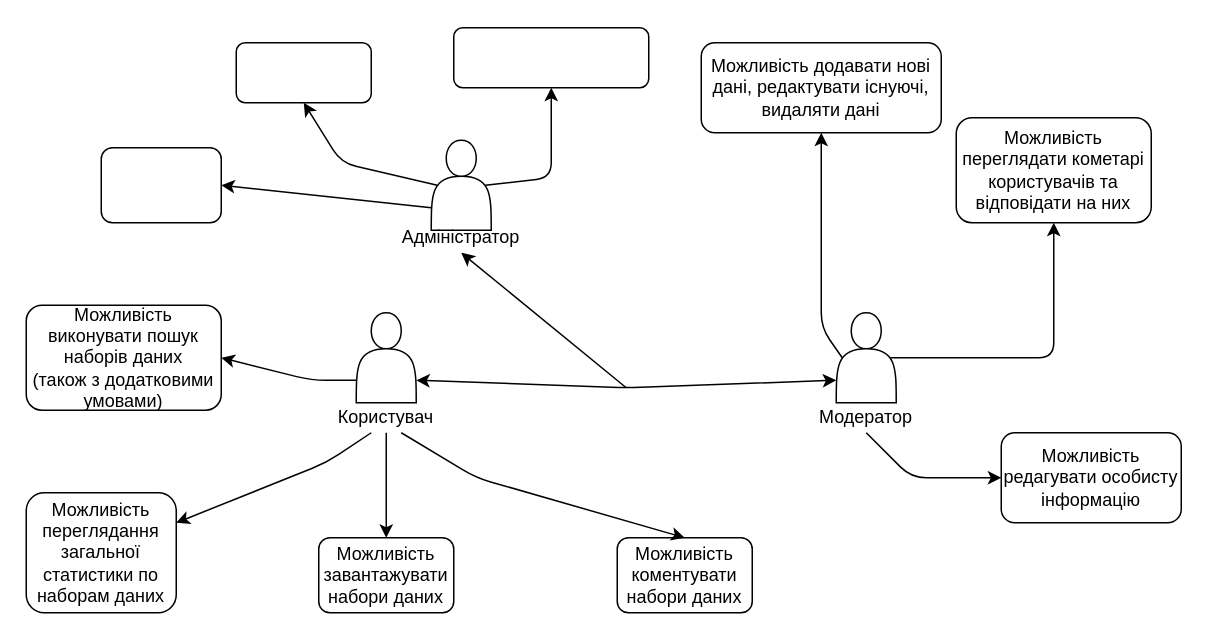
The diagram is 1208 pixels wide and 639 high, and some of its shapes have lost their labels. The shapes that lost their labels are listed below. From the top down, each one's centre as x and y in pixels, then its label:
At [303,72]: "підтримувати зв'язок з користувачами".
At [550,57]: "Можливість вирішення питання оприлюднення даних".
At [160,184]: "Можливість додавання модераторів".
